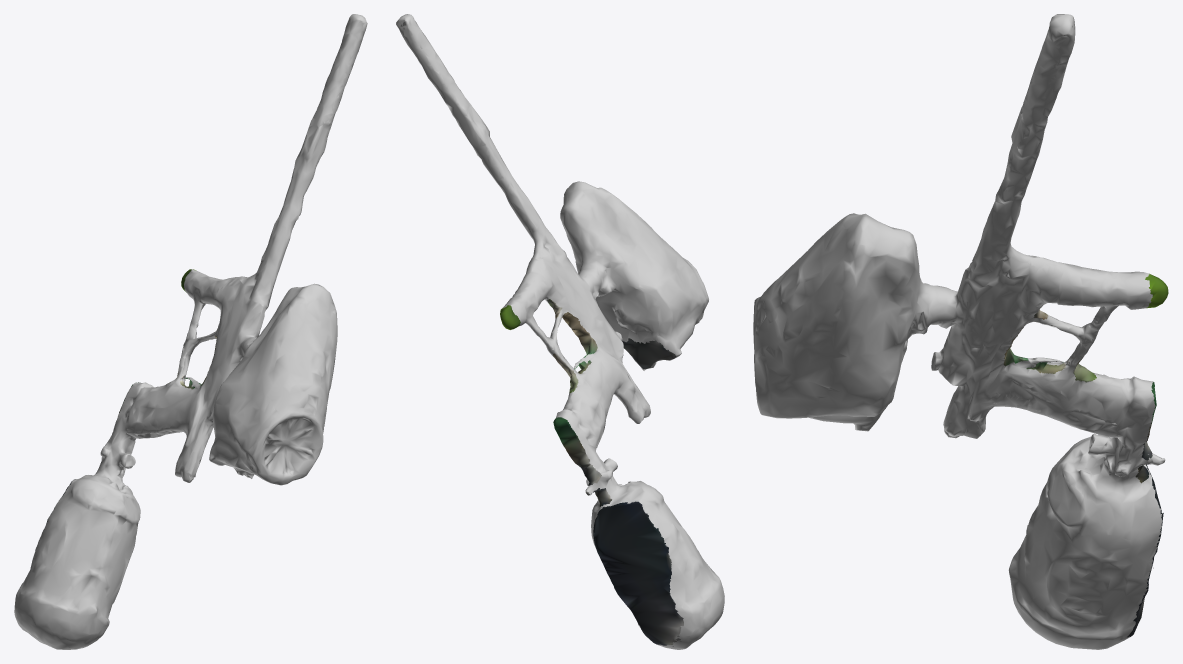
Rendered from lv1memento.obj.
3 renders of one model, left to right at view 1: azimuth 30°, elevation 25°; view 2: azimuth 150°, elevation 25°; view 3: azimuth 270°, elevation 25°, orthographic. The views are drawn at different scales.
Bounding box in the file's own units: 13.07 × 21.19 × 9.56.
